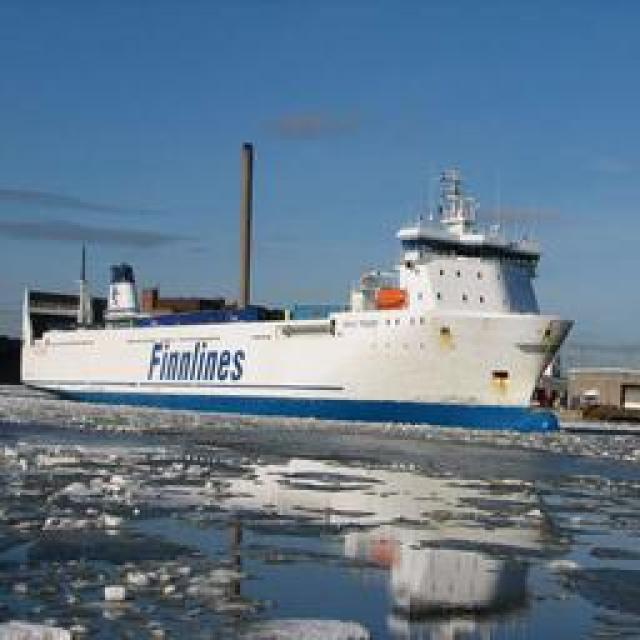ship2: (20, 169, 577, 434)
